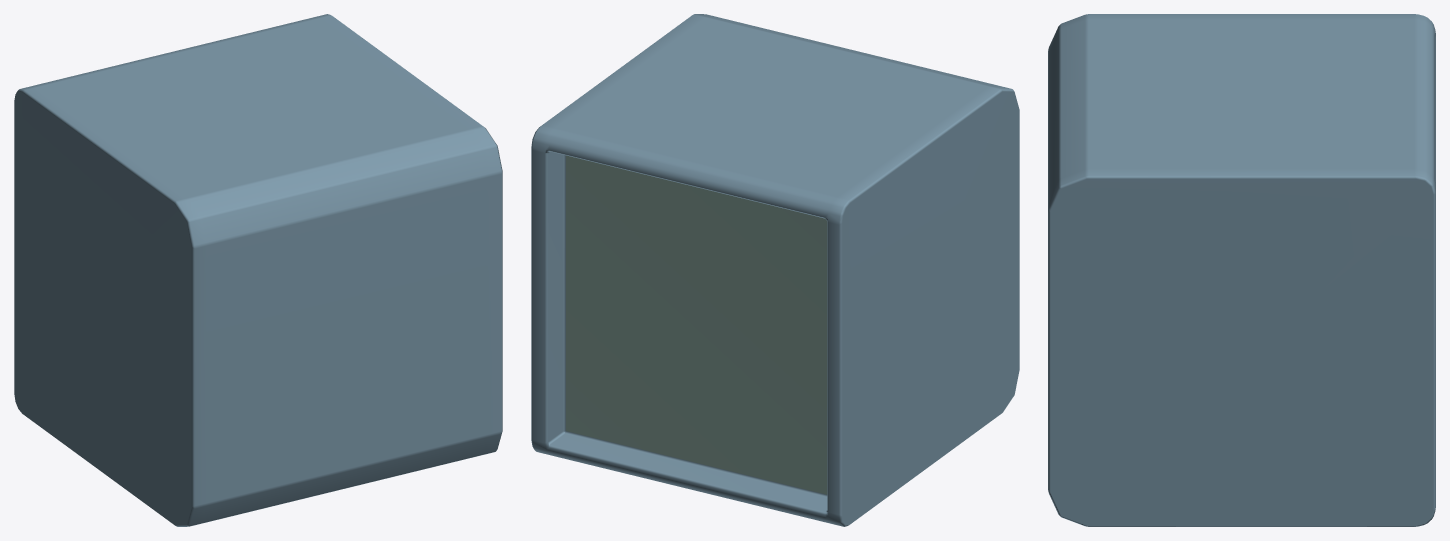
Rendered from reloj_de_mesa.fbx.
3 renders of one model, left to right at view 1: azimuth 30°, elevation 25°; view 2: azimuth 150°, elevation 25°; view 3: azimuth 270°, elevation 25°, orthographic. The views are drawn at different scales.
Visible parts, largest first — view 1: reloj_de_mesa; view 2: reloj_de_mesa; view 3: reloj_de_mesa.
Boxes of the visible parts, x1,y1,x2,y2 form: reloj_de_mesa: (14,14,502,526); reloj_de_mesa: (531,14,1019,526); reloj_de_mesa: (1048,14,1435,526).
Size of the model in its own units: 14.67 by 14.67 by 14.67.
